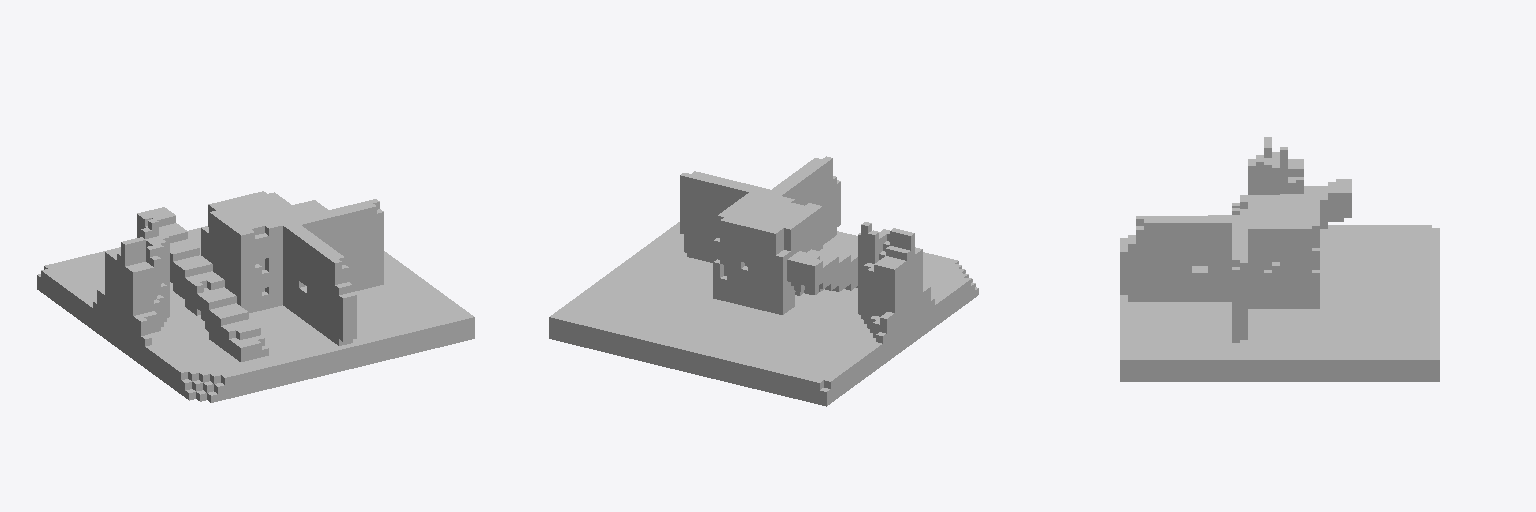
File: lostburg_dungeon.obj
3 renders of one model, left to right at view 1: azimuth 30°, elevation 25°; view 2: azimuth 150°, elevation 25°; view 3: azimuth 270°, elevation 25°, orthographic.
Parts seen in each view (by area): view 1: Untitled; view 2: Untitled; view 3: Untitled.
Part boxes in pixels (x1,y1,x2,y2): Untitled: (37, 191, 474, 402); Untitled: (549, 156, 978, 406); Untitled: (1120, 137, 1439, 381).
Bounding box in the file's own units: 4 × 1.6 × 4.